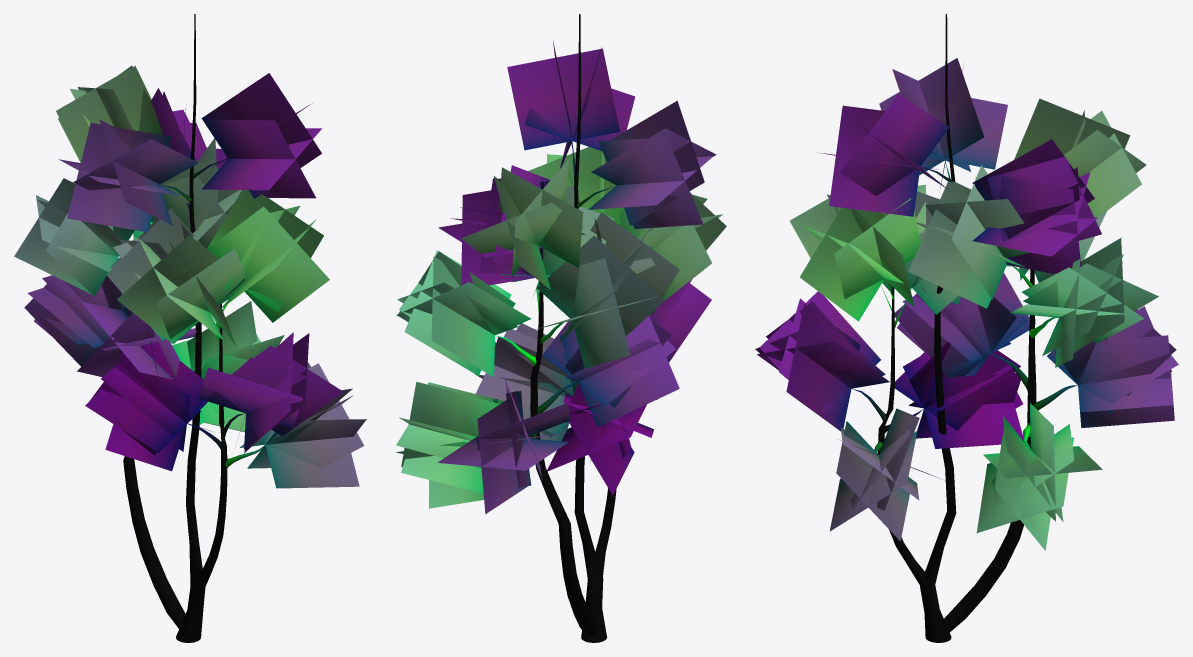
File: URP_P6_Tree_8_LOD_1.fbx
The picture shows the model from 3 angles, left to right: view 1: azimuth 30°, elevation 25°; view 2: azimuth 150°, elevation 25°; view 3: azimuth 270°, elevation 25°; orthographic projection.
Parts seen in each view (by area): view 1: Tree_8_LOD_1; view 2: Tree_8_LOD_1; view 3: Tree_8_LOD_1.
Boxes of the visible parts, x1,y1,x2,y2 form: Tree_8_LOD_1: (14, 14, 366, 642); Tree_8_LOD_1: (395, 14, 726, 642); Tree_8_LOD_1: (755, 14, 1178, 642).
Bounding box in the file's own units: 475 × 1112 × 680.
